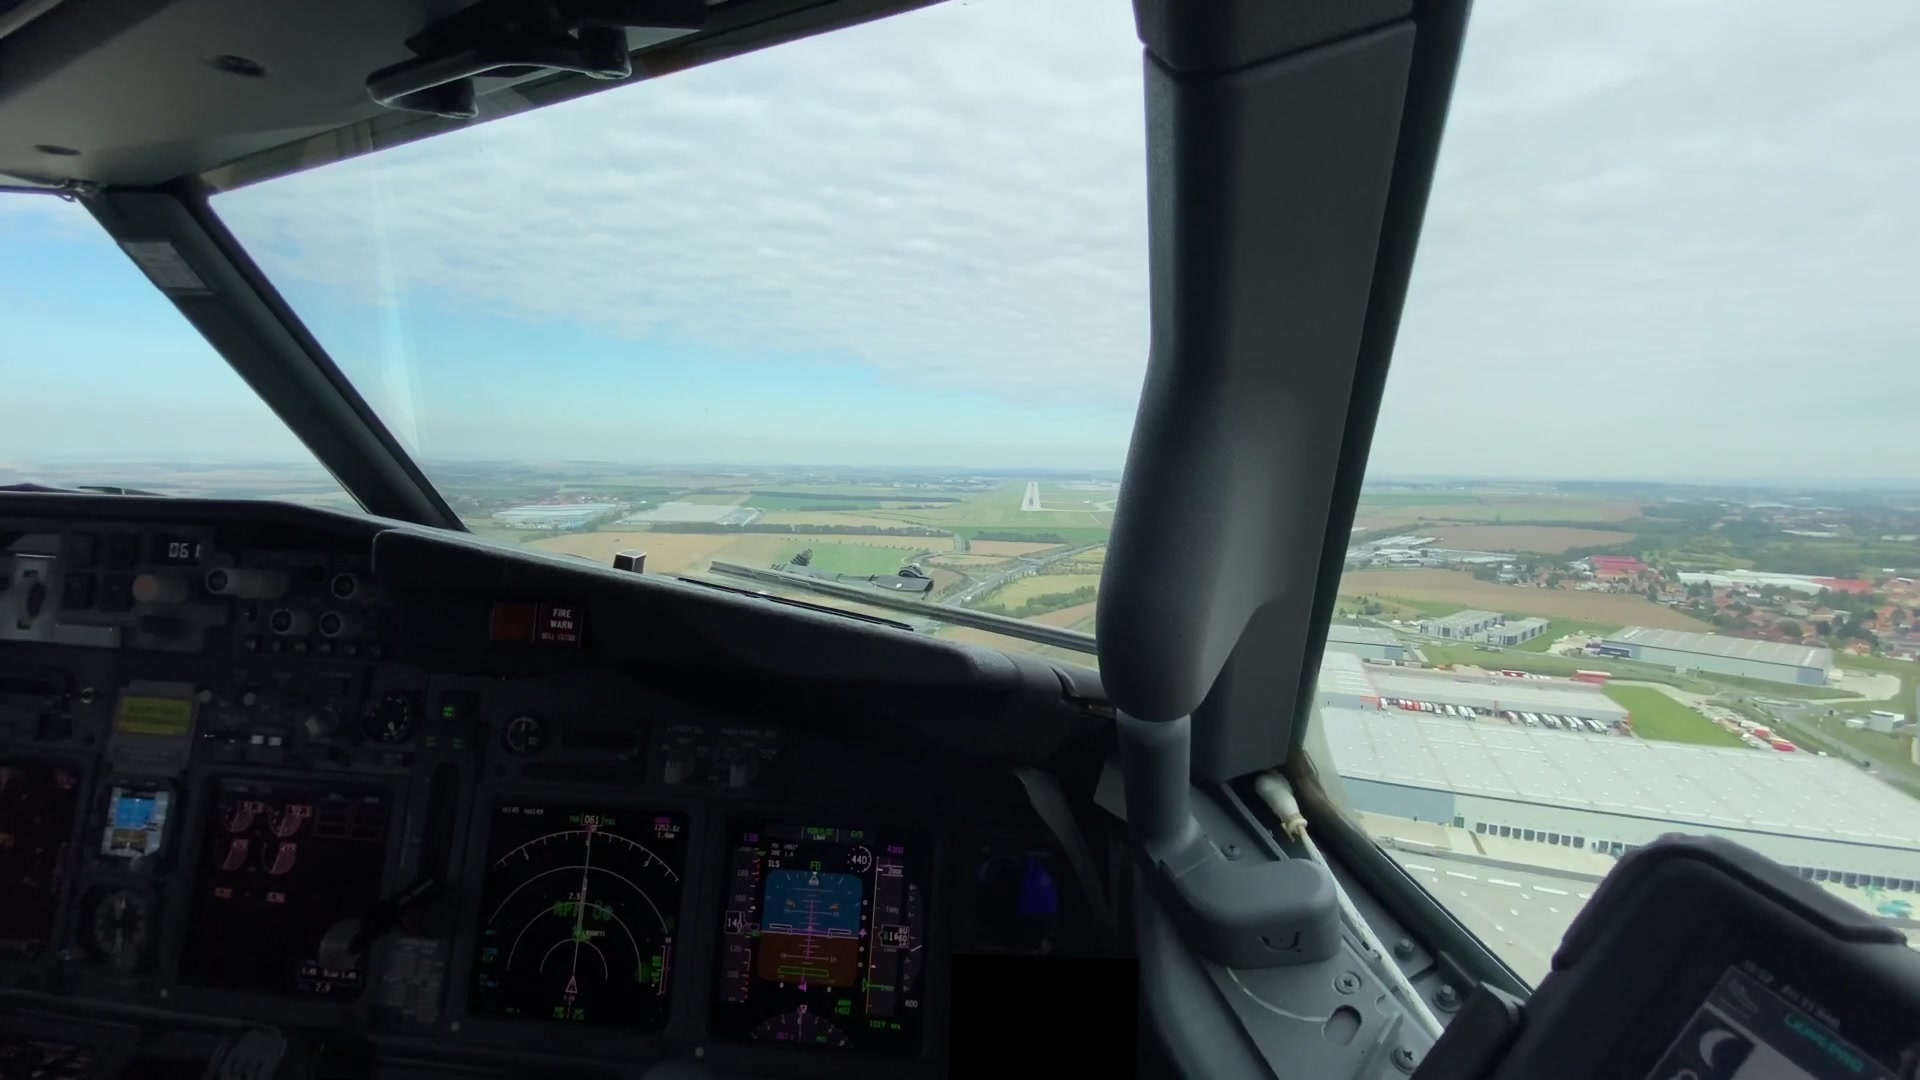runway: (1017, 479, 1044, 512)
